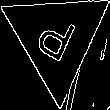P_SW: (32, 8, 81, 70)
